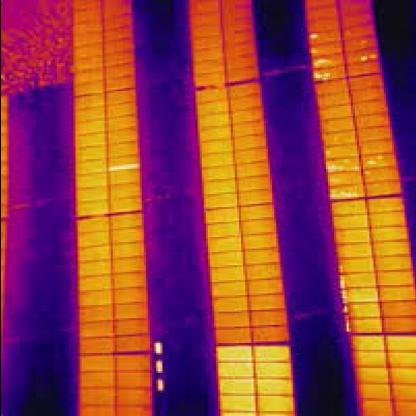Defects: (150, 358, 166, 375), (154, 378, 168, 394), (150, 342, 166, 356)
